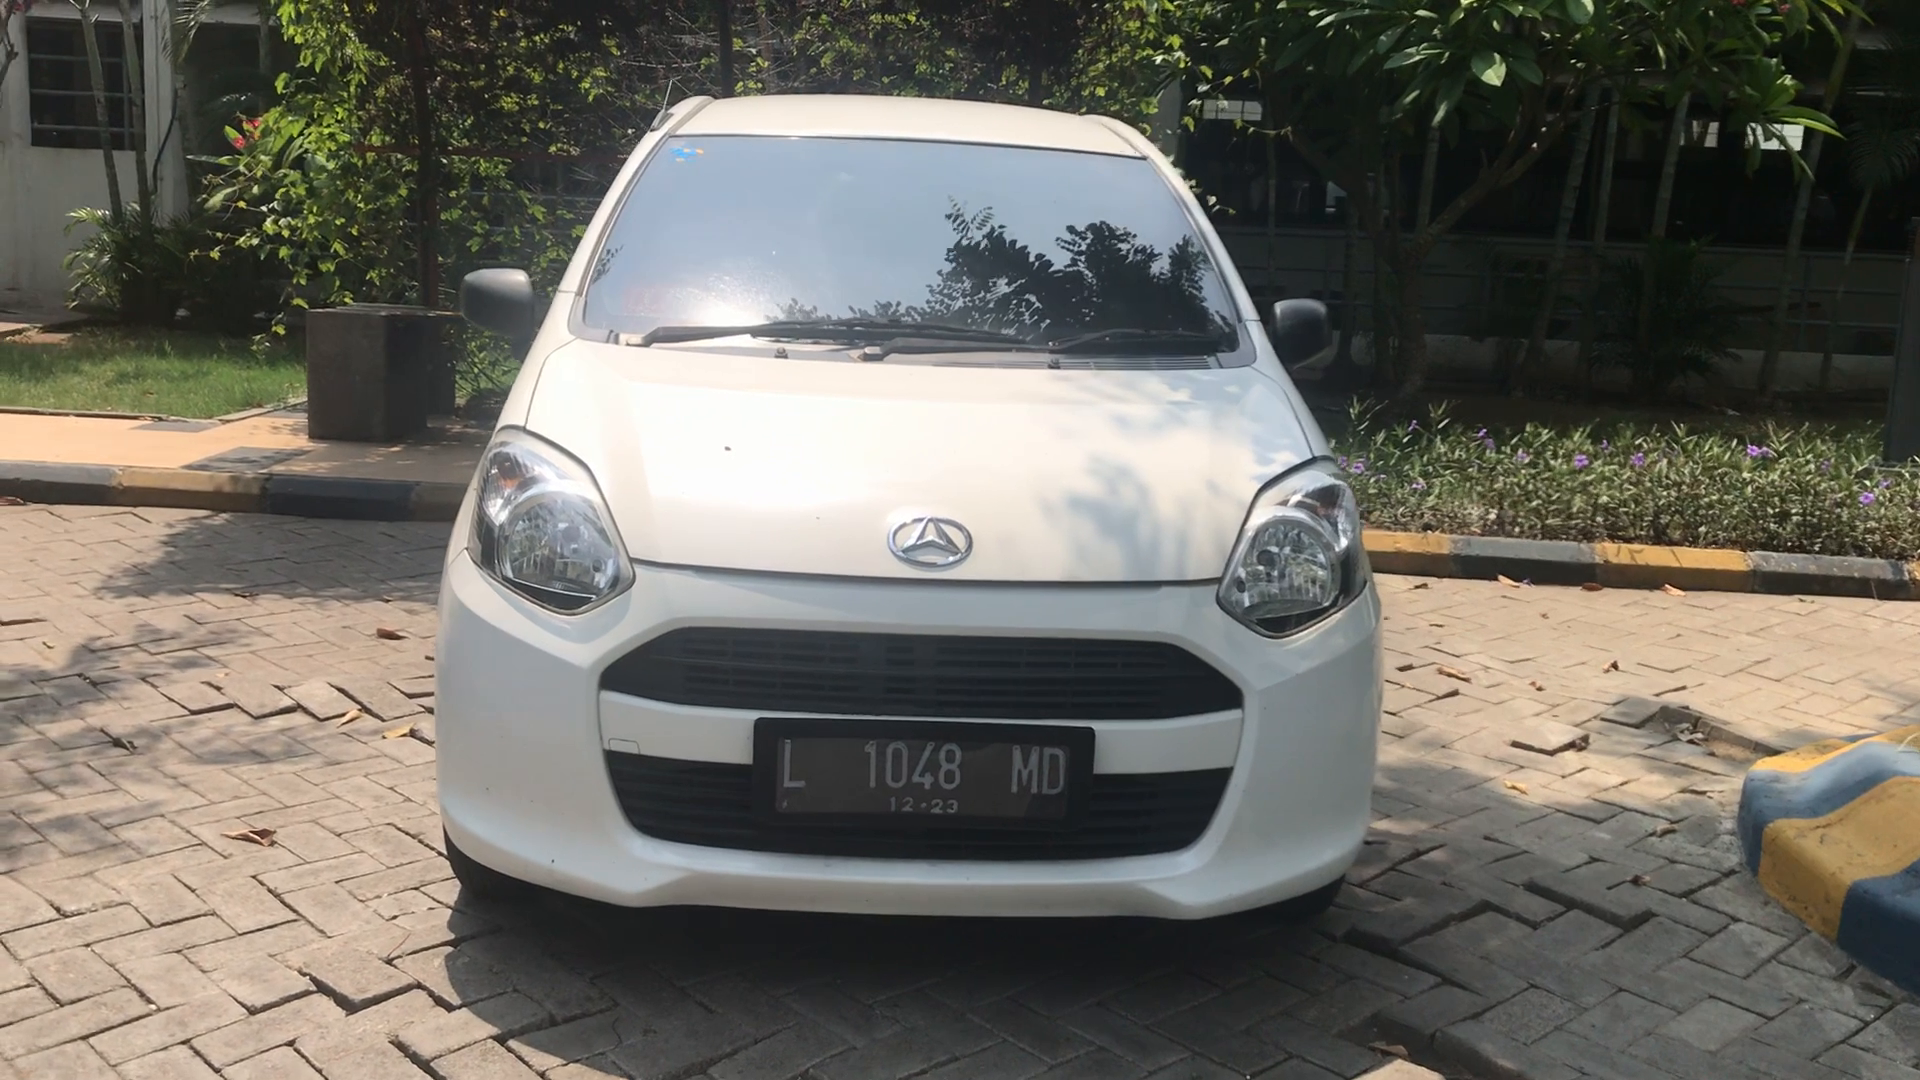plate: (780, 730, 1087, 820)
